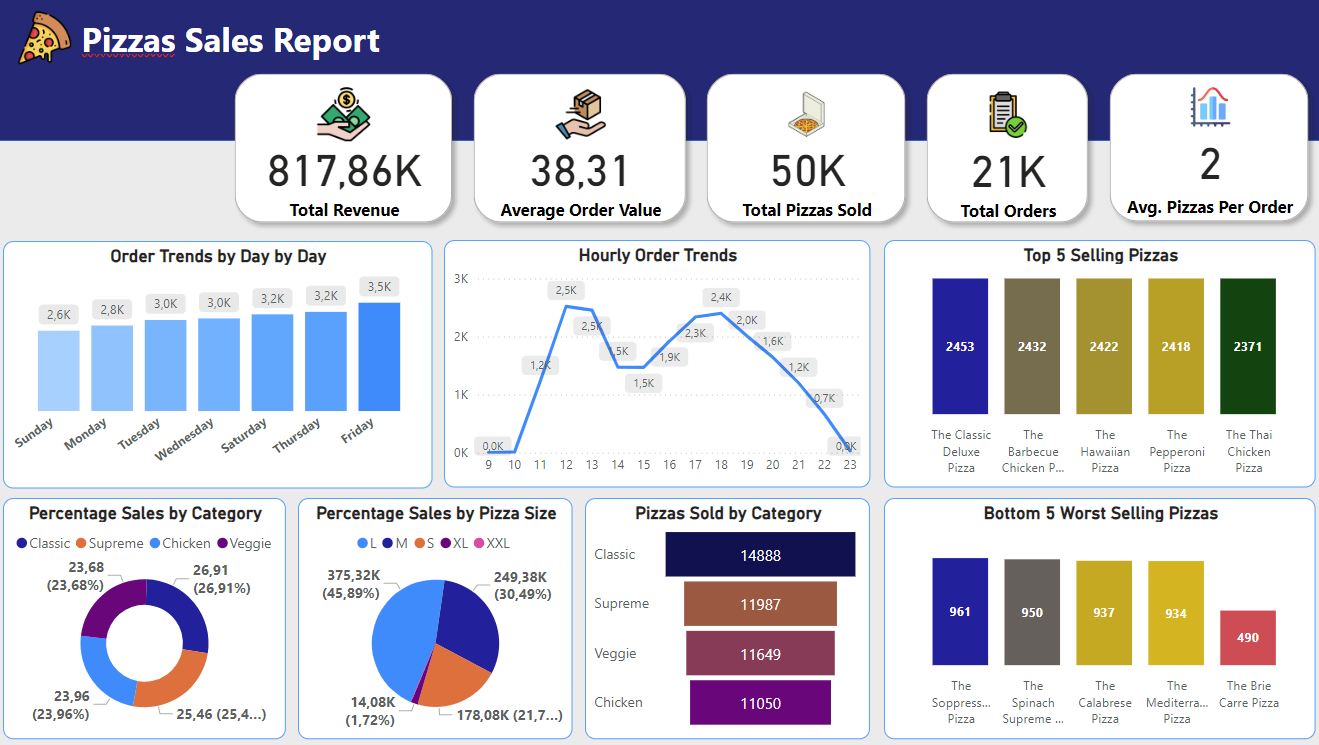

What the dashboard file says about the page in this screenshot:
{"tool":"powerbi","page":{"name":"Page 1","canvas":[1280,720],"ordinal":0},"visuals":[{"type":"shape","box":[0,1,1280.8,137.5],"z":0},{"type":"cardVisual","title":"Total Revenue","fields":{"Data":["Sum(1-kpi-total revenue.Column1)"]},"box":[212.5,56.7,243.3,177.9],"z":1000},{"type":"cardVisual","title":"Average Order Value","fields":{"Data":["Sum(2-kpi-Average order value.Column1)"]},"box":[442.3,56.7,238.5,177.9],"z":2000},{"type":"cardVisual","title":"Total Pizzas Sold","fields":{"Data":["Sum(3-kpi-Total Pizzas Sold.Column1)"]},"box":[666.3,56.7,225,177.9],"z":3000},{"type":"cardVisual","title":"Total Orders","fields":{"Data":["Sum(4-kpi-Total Orders.Column1)"]},"box":[877.9,56.7,189.4,177.9],"z":4000},{"type":"cardVisual","title":"Avg. Pizzas Per Order","fields":{"Data":["Sum(5-kpi-Average Pizzas Per Order.Column1)"]},"box":[1053.8,56.7,226,176.9],"z":5000},{"type":"textbox","box":[24.1,12.8,493.2,63.8],"z":6000},{"type":"columnChart","fields":{"Category":["question 1 - total orders.Day"],"Y":["Sum(question 1 - total orders.Total Orders)"]},"box":[6.7,234.6,412.5,237.5],"z":7000},{"type":"lineChart","title":"Hourly Order Trends ","fields":{"Y":["Sum(question 2 - Hourly Trends.Column2)"],"Category":["question 2 - Hourly Trends.Column1"]},"box":[430.8,233.7,409.6,238.5],"z":8000},{"type":"donutChart","title":"Percentage Sales by Category","fields":{"Category":["question 3 - Percentage sales.Category"],"Y":["Sum(question 3 - Percentage sales.Percentage Sales)"]},"box":[6.7,481.7,272.1,231.7],"z":9000},{"type":"pieChart","title":"Percentage Sales by Pizza Size","fields":{"Y":["Sum(question 4 - Percentagevsales - size.Percentage Sales)"],"Category":["question 4 - Percentagevsales - size.Pizza Size"]},"box":[290.4,481.7,264.4,231.7],"z":10000},{"type":"funnel","title":"Pizzas Sold by Category","fields":{"Category":["question 5 - quantity sold.Category"],"Y":["Sum(question 5 - quantity sold.Total Pizzas Sold)"]},"box":[566.3,481.7,274,231.7],"z":11000},{"type":"hundredPercentStackedColumnChart","title":"Top 5 Selling Pizzas","fields":{"Category":["question 6 - Top 5.Pizza"],"Y":["Sum(question 6 - Top 5.Number Sold)"]},"box":[853.8,233.7,415.4,238.5],"z":12000},{"type":"clusteredColumnChart","title":"Bottom 5 Worst Selling Pizzas","fields":{"Category":["question 7 - Bottom 5.Pizza"],"Y":["Sum(question 7 - Bottom 5.Number Sold)"]},"box":[853.8,481.7,415.4,231.7],"z":13000},{"type":"image","box":[16.3,8.7,60.6,61.5],"z":13001}]}

Visuals, with their boxes in screenshot pixels (x1, y1, x2, y2), scaled from the page's 1280x720 canvas onto the 1319x745 screenshot:
shape: region(0, 1, 1318, 143)
"Total Revenue" cardVisual: region(219, 59, 470, 243)
"Average Order Value" cardVisual: region(456, 59, 702, 243)
"Total Pizzas Sold" cardVisual: region(687, 59, 918, 243)
"Total Orders" cardVisual: region(905, 59, 1100, 243)
"Avg. Pizzas Per Order" cardVisual: region(1086, 59, 1318, 242)
textbox: region(25, 13, 533, 79)
columnChart - question 1 - total orders.Day x Sum(question 1 - total orders.Total Orders): region(7, 243, 432, 488)
"Hourly Order Trends " lineChart: region(444, 242, 866, 489)
"Percentage Sales by Category" donutChart: region(7, 498, 287, 738)
"Percentage Sales by Pizza Size" pieChart: region(299, 498, 572, 738)
"Pizzas Sold by Category" funnel: region(584, 498, 866, 738)
"Top 5 Selling Pizzas" hundredPercentStackedColumnChart: region(880, 242, 1308, 489)
"Bottom 5 Worst Selling Pizzas" clusteredColumnChart: region(880, 498, 1308, 738)
image: region(17, 9, 79, 73)
